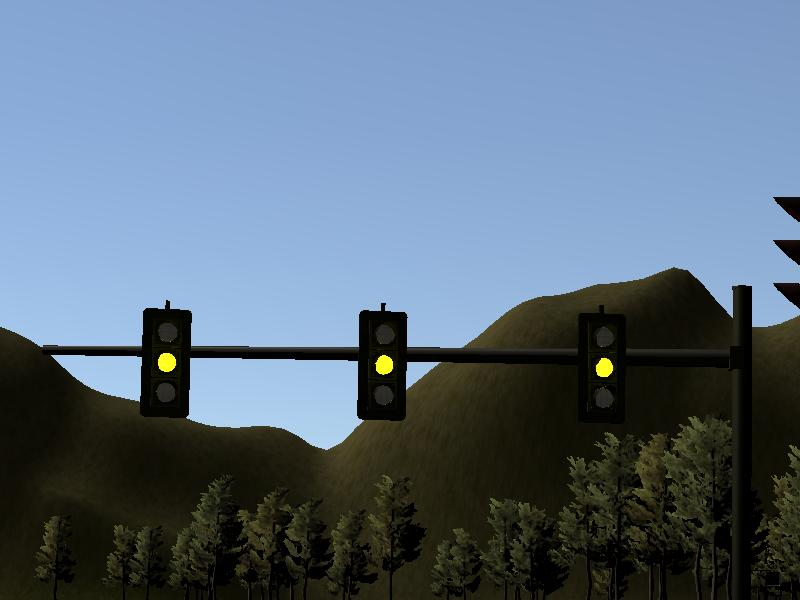not_red: (141, 305, 192, 420), (358, 308, 405, 420), (577, 307, 624, 418)
